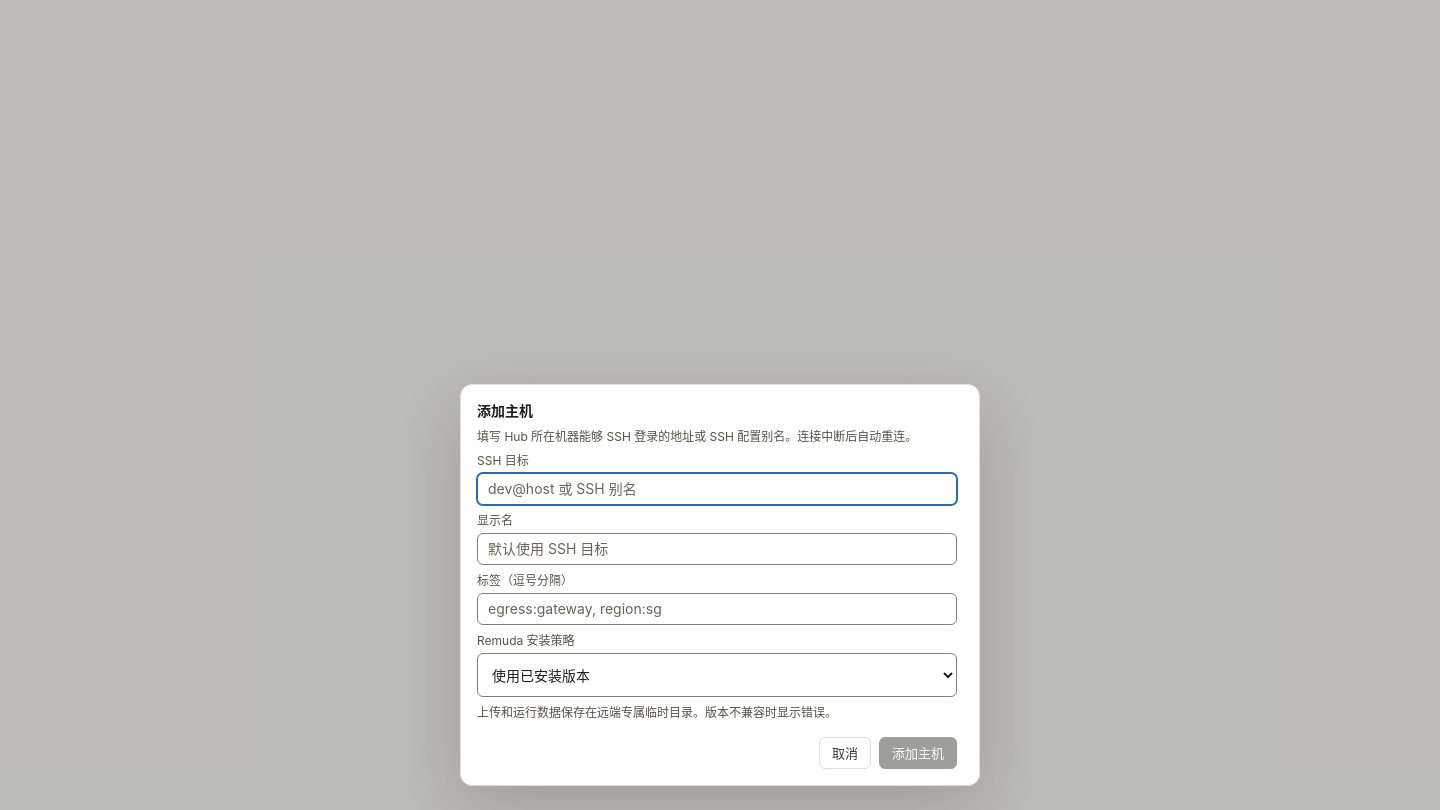
Test: keeps the dialog open with API errors instead of fabricating online status
In the field with test id "add-host-target": (717, 489) x1=477 y1=473 x2=957 y2=505, type "sg.example"
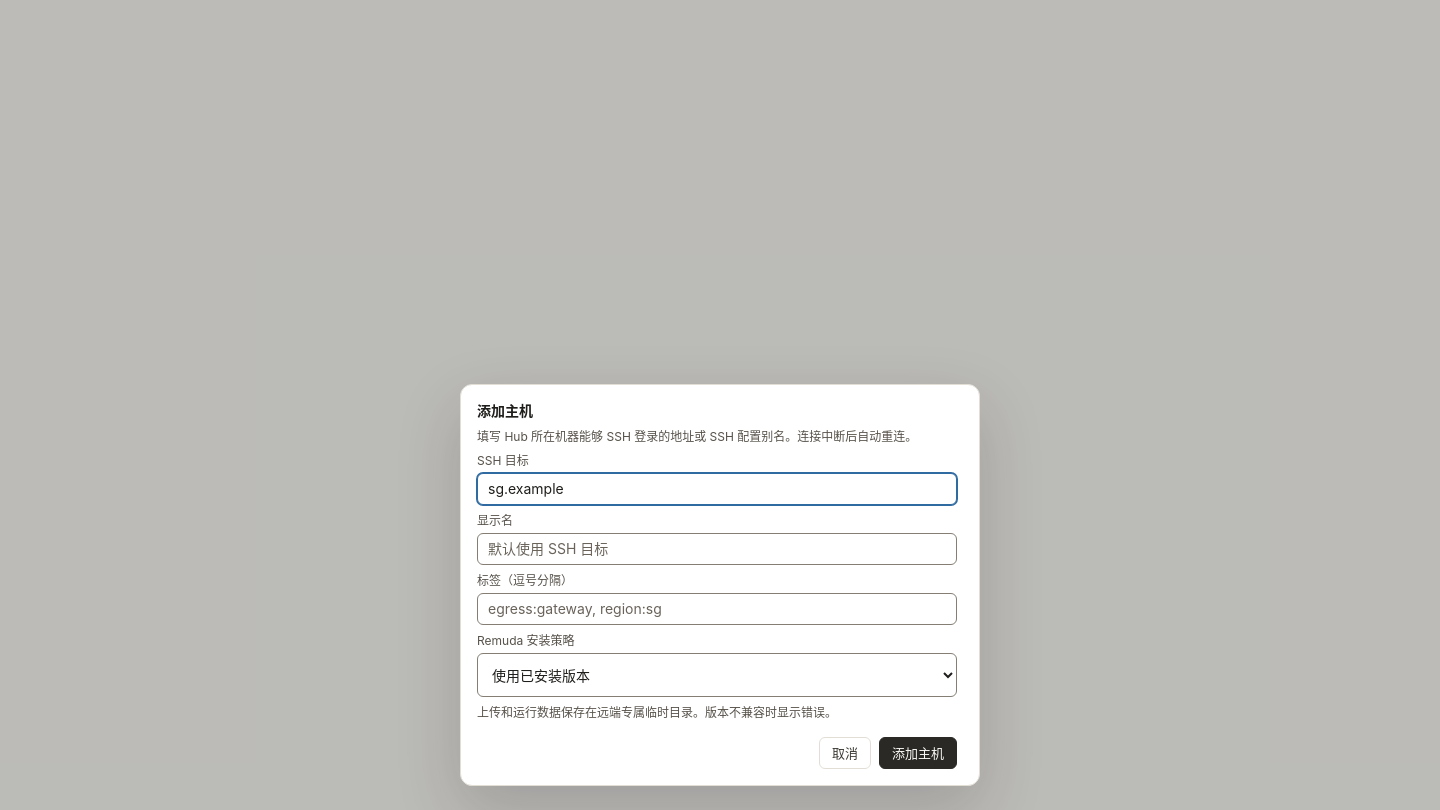
Click the button with test id "add-host-submit": (918, 753) x1=879 y1=737 x2=957 y2=769
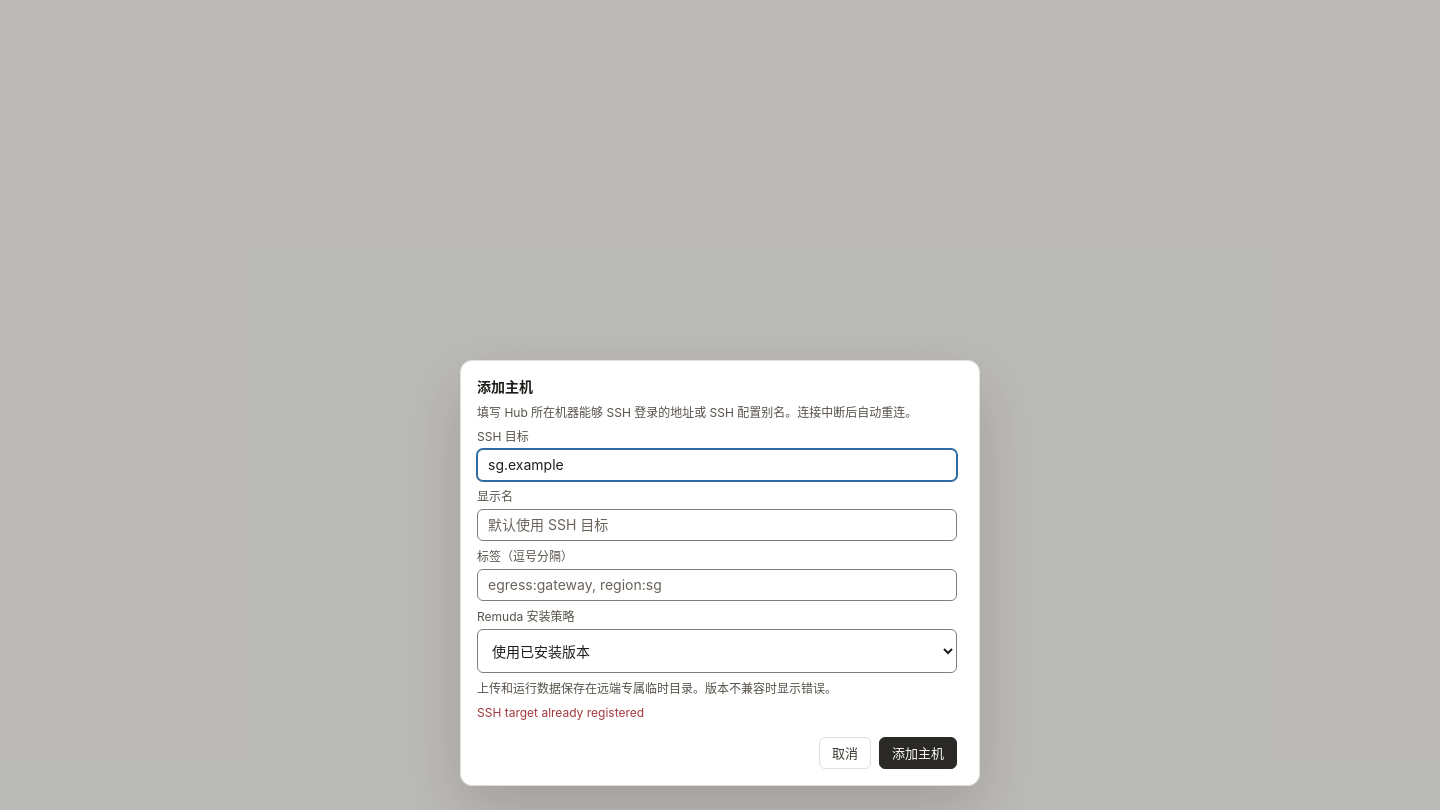
Check: the message shows "already registered", box x1=477 y1=705 x2=644 y2=720
